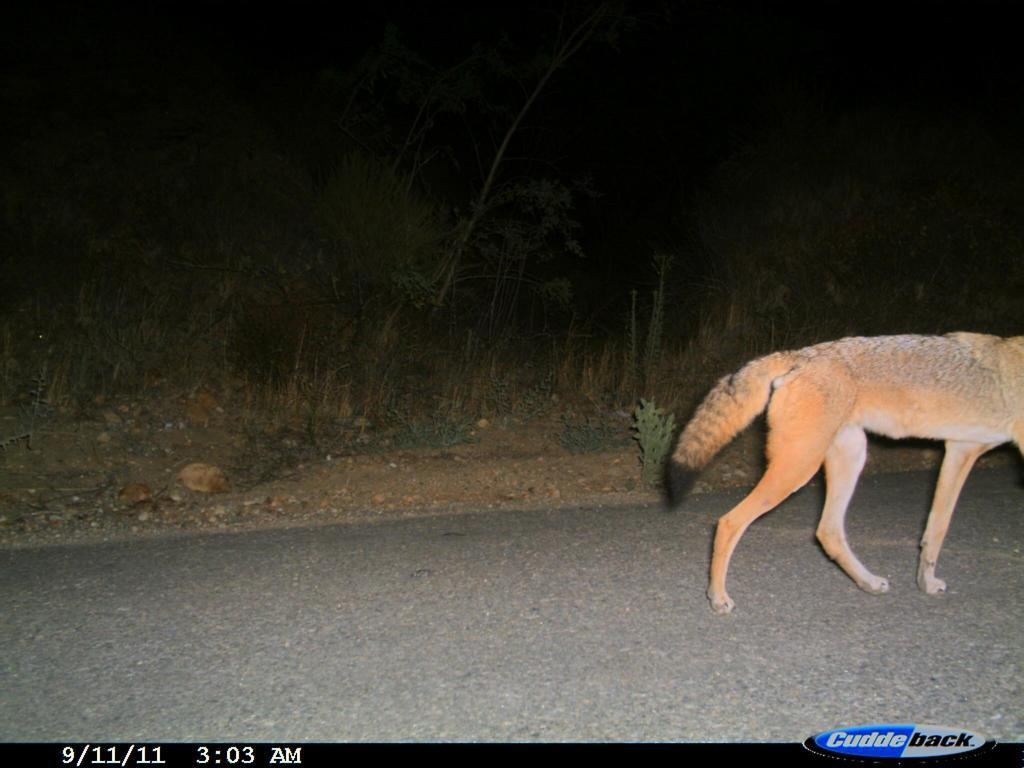coyote: (651, 308, 1016, 642)
